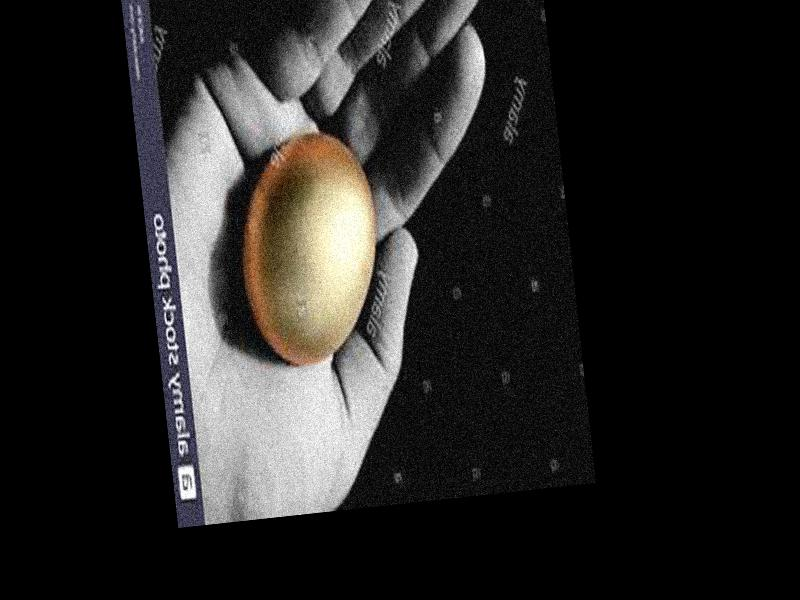Eggs: (232, 126, 389, 367)
